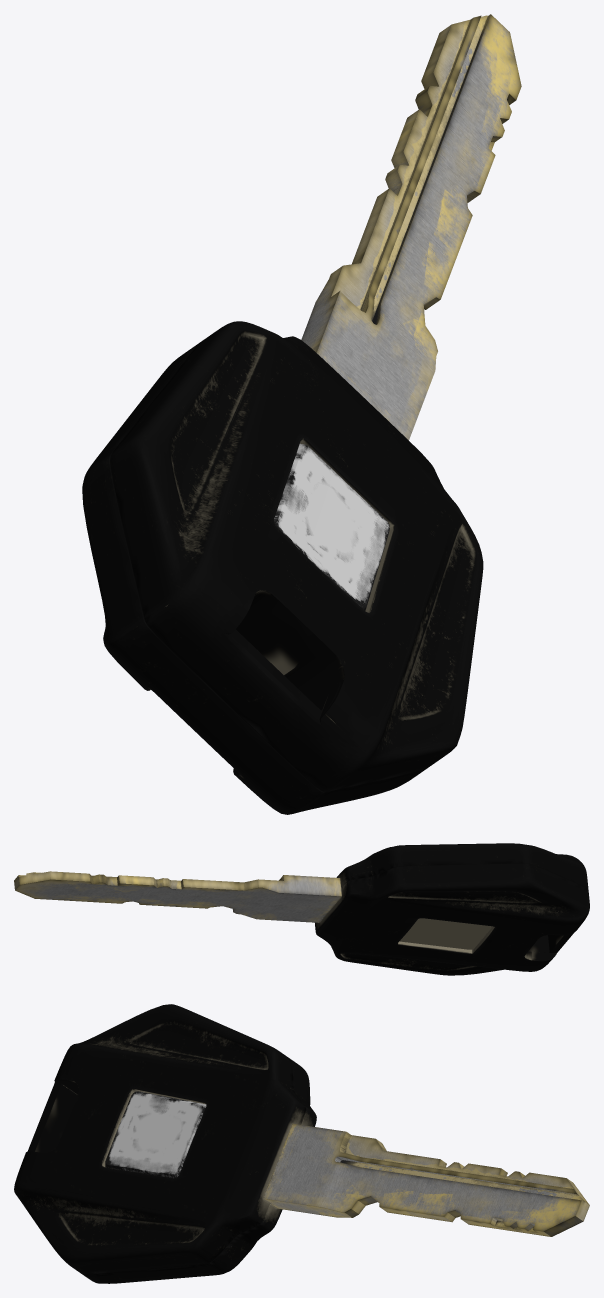
The model's file is CarKey.obj.
3 views of the same model, one above another, from view 1: azimuth 30°, elevation 25°; view 2: azimuth 150°, elevation 25°; view 3: azimuth 270°, elevation 25° (orthographic). The views are drawn at different scales.
Visible parts, largest first — view 1: Object_2, Object_5, Object_4; view 2: Object_2, Object_5; view 3: Object_2, Object_5, Object_4.
Boxes of the visible parts, bbox=[...] form: Object_2: bbox=[82, 321, 483, 814]; Object_5: bbox=[301, 14, 521, 440]; Object_4: bbox=[274, 443, 389, 610]; Object_2: bbox=[315, 843, 589, 975]; Object_5: bbox=[14, 871, 341, 922]; Object_2: bbox=[14, 1004, 316, 1283]; Object_5: bbox=[263, 1123, 589, 1236]; Object_4: bbox=[105, 1091, 206, 1178].
Bounding box in the file's own units: 0.1431 × 0.0668 × 0.1485.
Materials: 3 (3 with a texture image).
